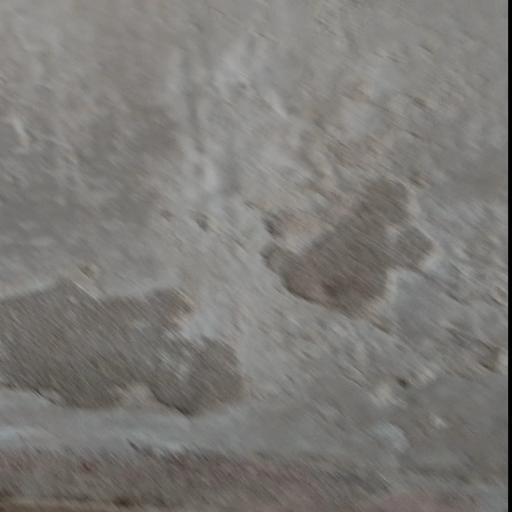peeling: (0, 271, 272, 437), (245, 174, 456, 343)
